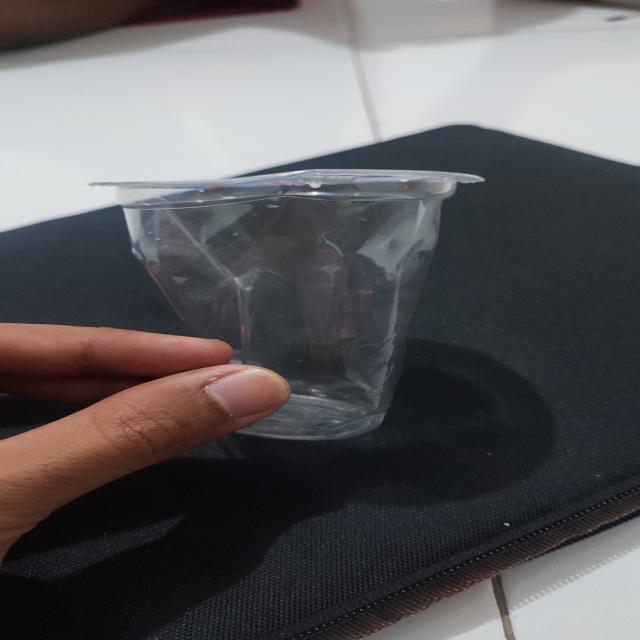air-gelas-rusak: (89, 163, 490, 451)
